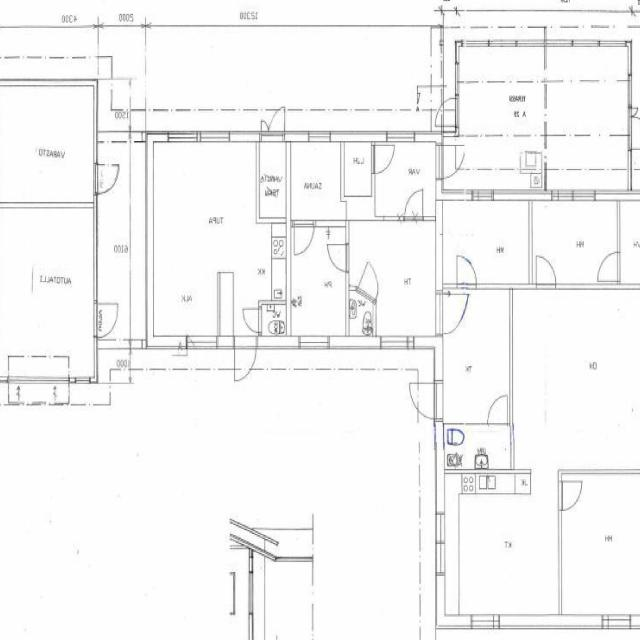door: (435, 294, 470, 334), (410, 382, 443, 418), (357, 264, 382, 304), (435, 146, 465, 178), (235, 336, 256, 380), (94, 304, 121, 338), (294, 220, 314, 256), (94, 164, 118, 194), (435, 97, 459, 126), (559, 481, 582, 511), (536, 255, 556, 289), (488, 392, 508, 426), (372, 145, 395, 174), (598, 252, 620, 282), (457, 255, 476, 289), (328, 244, 350, 272), (268, 107, 285, 141), (242, 309, 262, 332), (628, 117, 640, 149), (262, 121, 268, 141), (628, 108, 639, 116)
